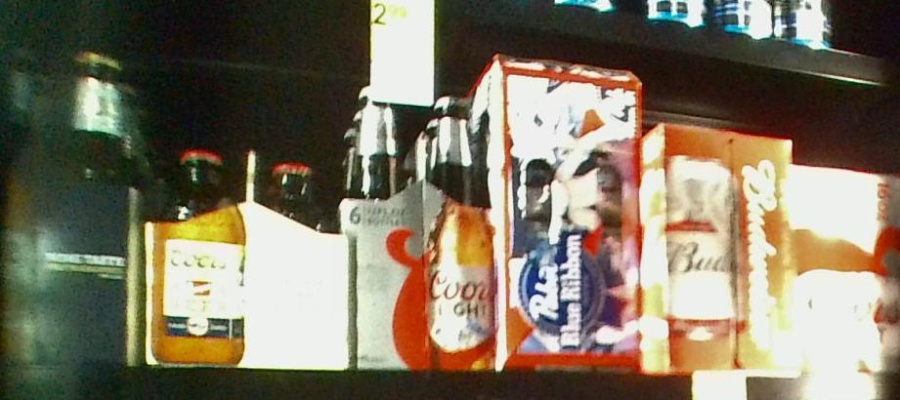bottle: (493, 54, 639, 372), (142, 138, 344, 365), (1, 61, 142, 362), (344, 83, 491, 368), (639, 120, 794, 376), (795, 168, 900, 373)
